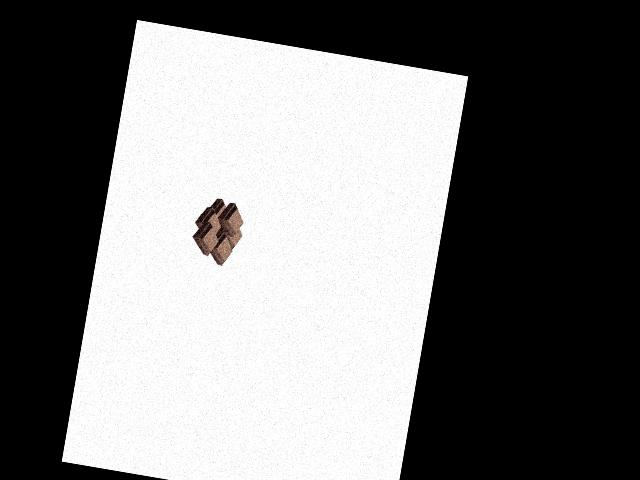chocolate: (190, 193, 250, 267)
